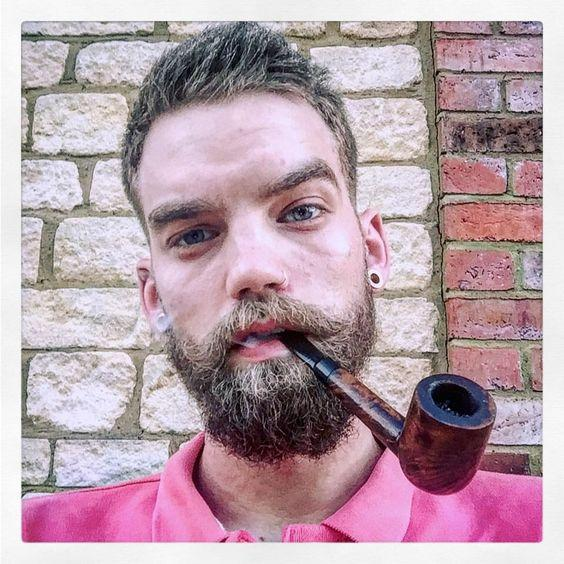trubka: (267, 331, 495, 494)
